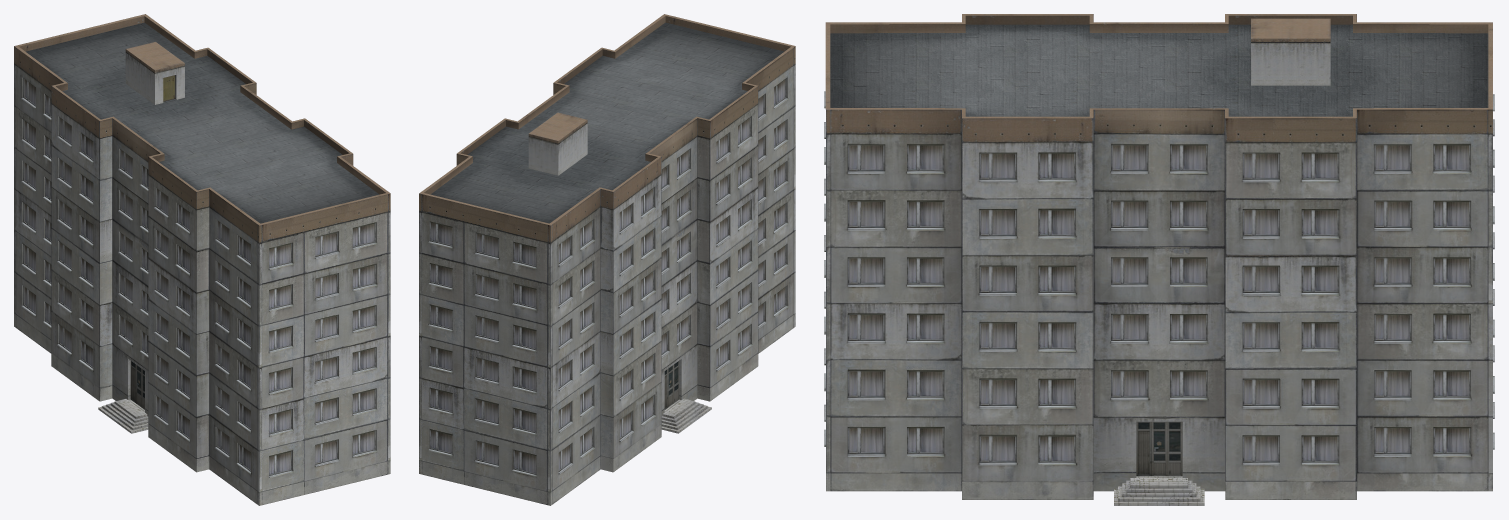
Rendered from bld_b12.glb.
3 views of the same model, side by side, from view 1: azimuth 30°, elevation 25°; view 2: azimuth 150°, elevation 25°; view 3: azimuth 270°, elevation 25° (orthographic). The views are drawn at different scales.
Parts seen in each view (by area): view 1: body|lambert1; view 2: body|lambert1; view 3: body|lambert1.
Part boxes in pixels (left/top/right/bottom): body|lambert1: left=14, top=14, right=390, bottom=505; body|lambert1: left=419, top=14, right=795, bottom=505; body|lambert1: left=824, top=14, right=1494, bottom=505.
Bounding box in the file's own units: 17.76 × 29.86 × 43.19.
1 material, 1 textured.
